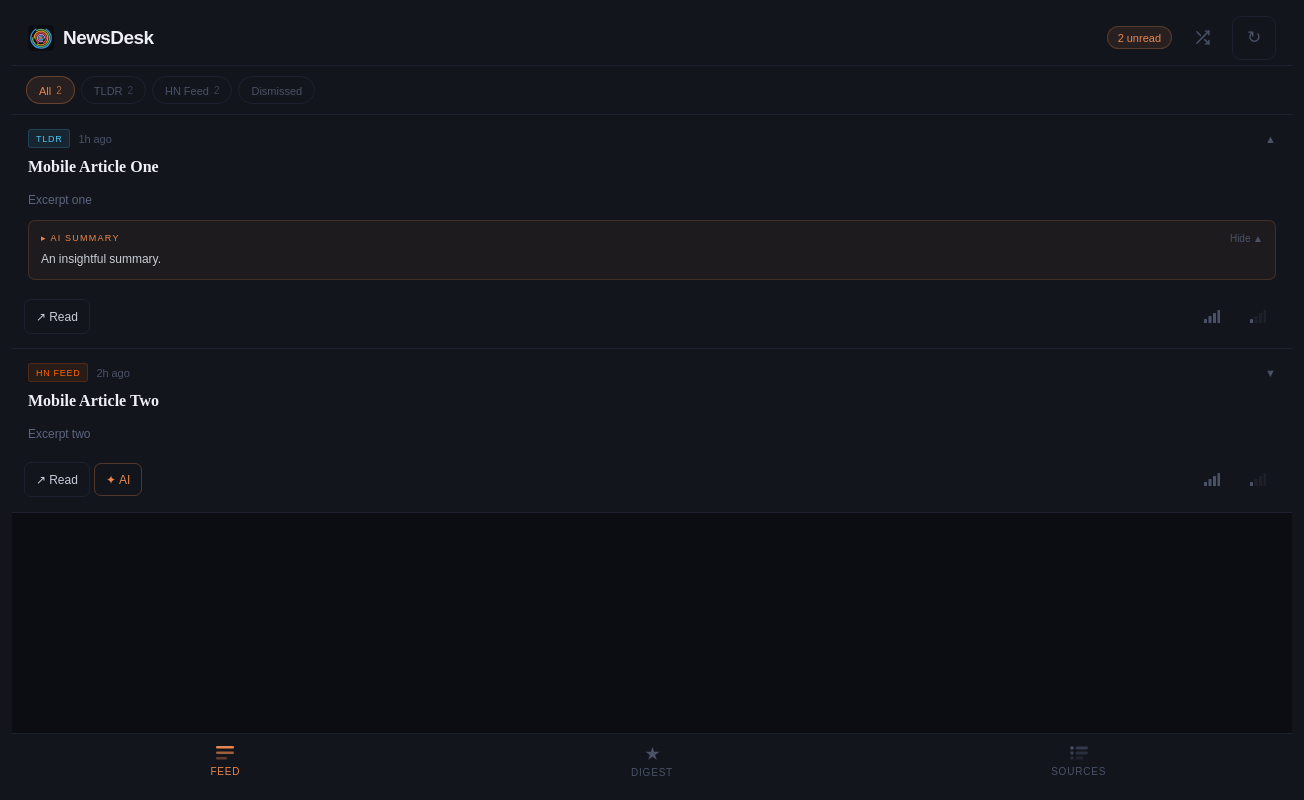
Test: MobileApp — feed tab (default) › collapses and re-expands the AI summary when its header is clicked
Check: the text "An insightful summary." is shown, box left=41, top=250, right=161, bottom=267
What coordinates should you click on to do the following:
click the text "Hide ▲"
I would click on:
 (1246, 238)
Its box is left=1230, top=231, right=1263, bottom=245.
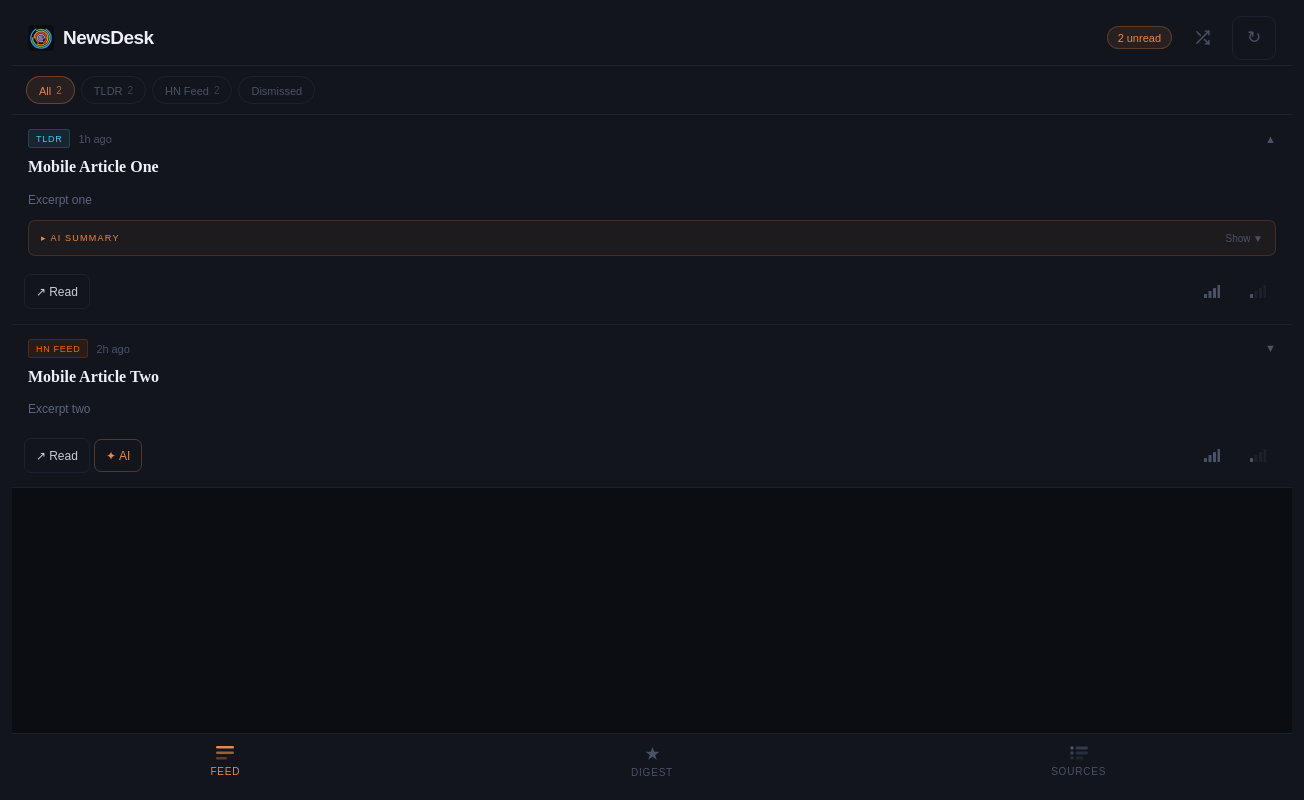
Check: the text "An insightful summary." is gone
What coordinates should you click on to do the following:
click the text "Show ▼"
I would click on:
 (1244, 238)
Its box is left=1226, top=231, right=1263, bottom=245.
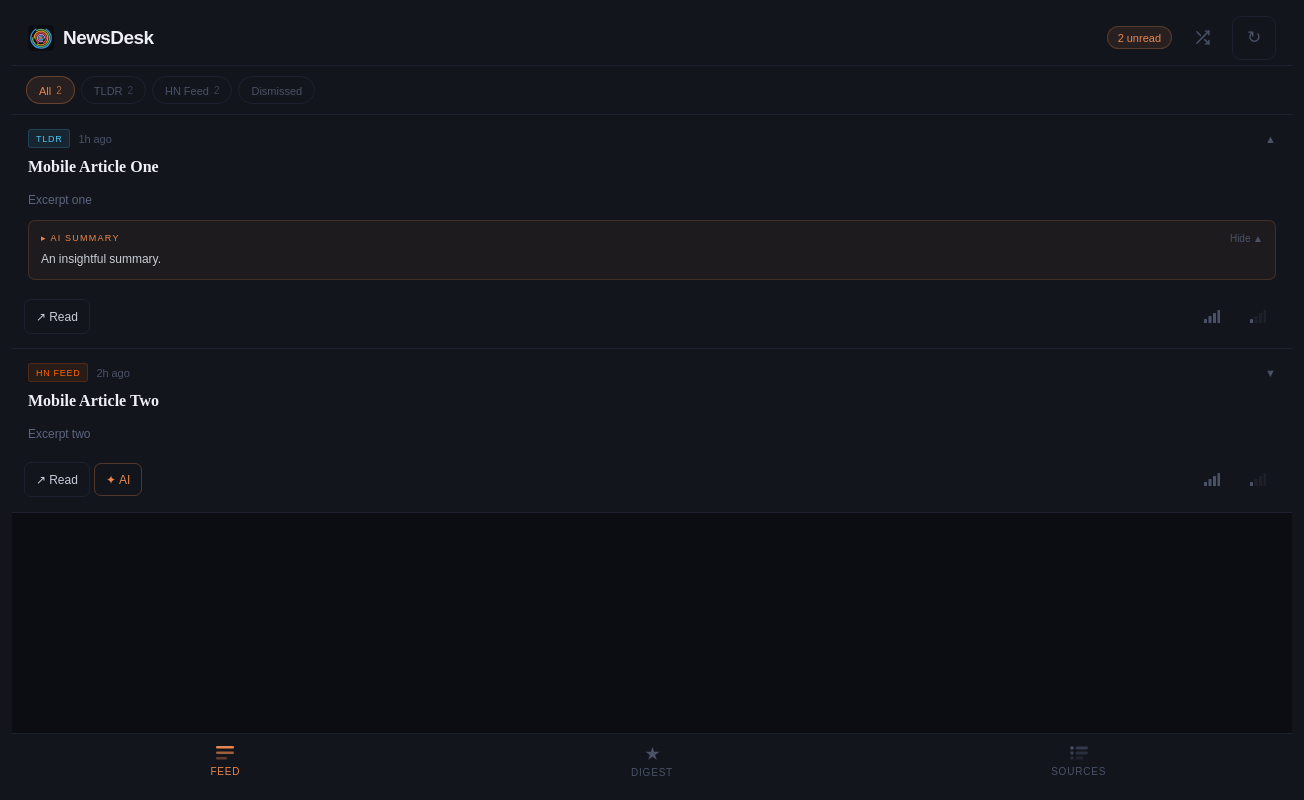
Check: the text "An insightful summary." is shown, box left=41, top=250, right=161, bottom=267
